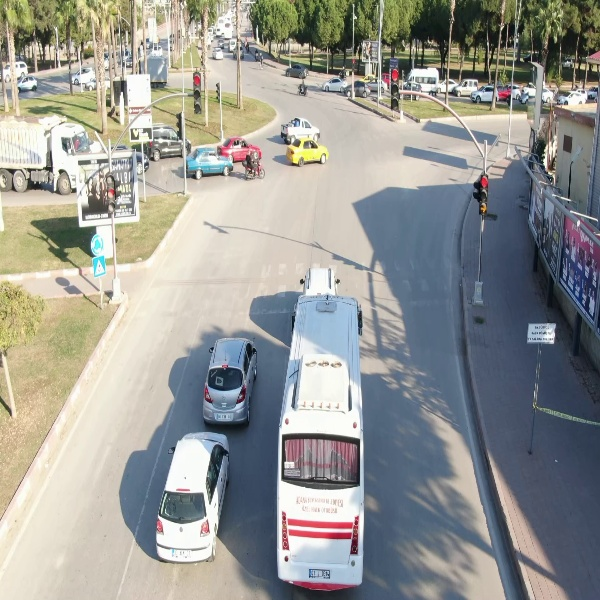car: (152, 428, 232, 565), (200, 334, 260, 428), (184, 147, 236, 180), (286, 135, 329, 168), (469, 84, 500, 105), (555, 89, 589, 107), (282, 61, 309, 78)
